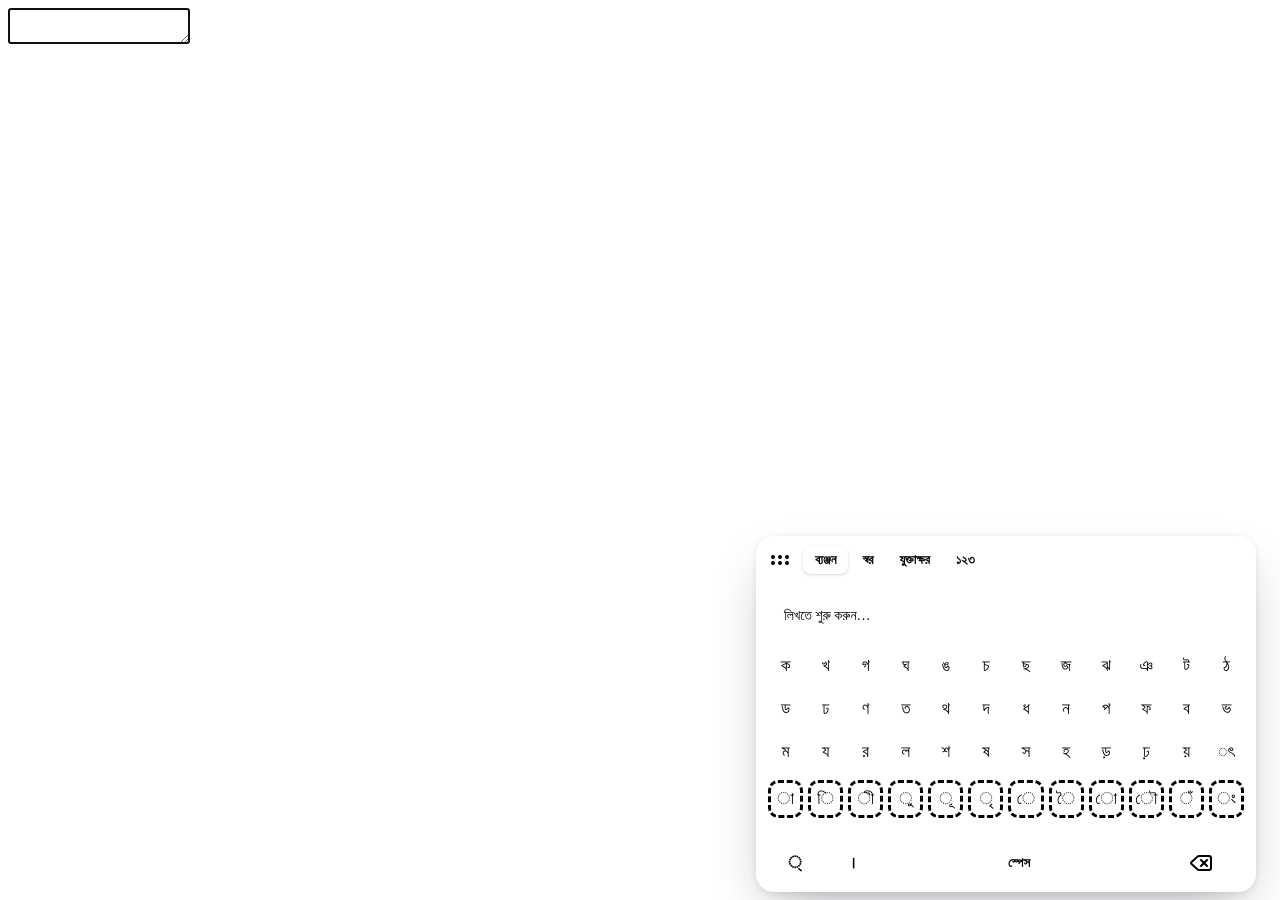
Test case: BanglaKeyboard › builds a conjunct from its own key
// A tablist, not three loose buttons — see the segmented control in the CSS.
Click the tab "যুক্তাক্ষর": (915, 560) [888,546,942,574]
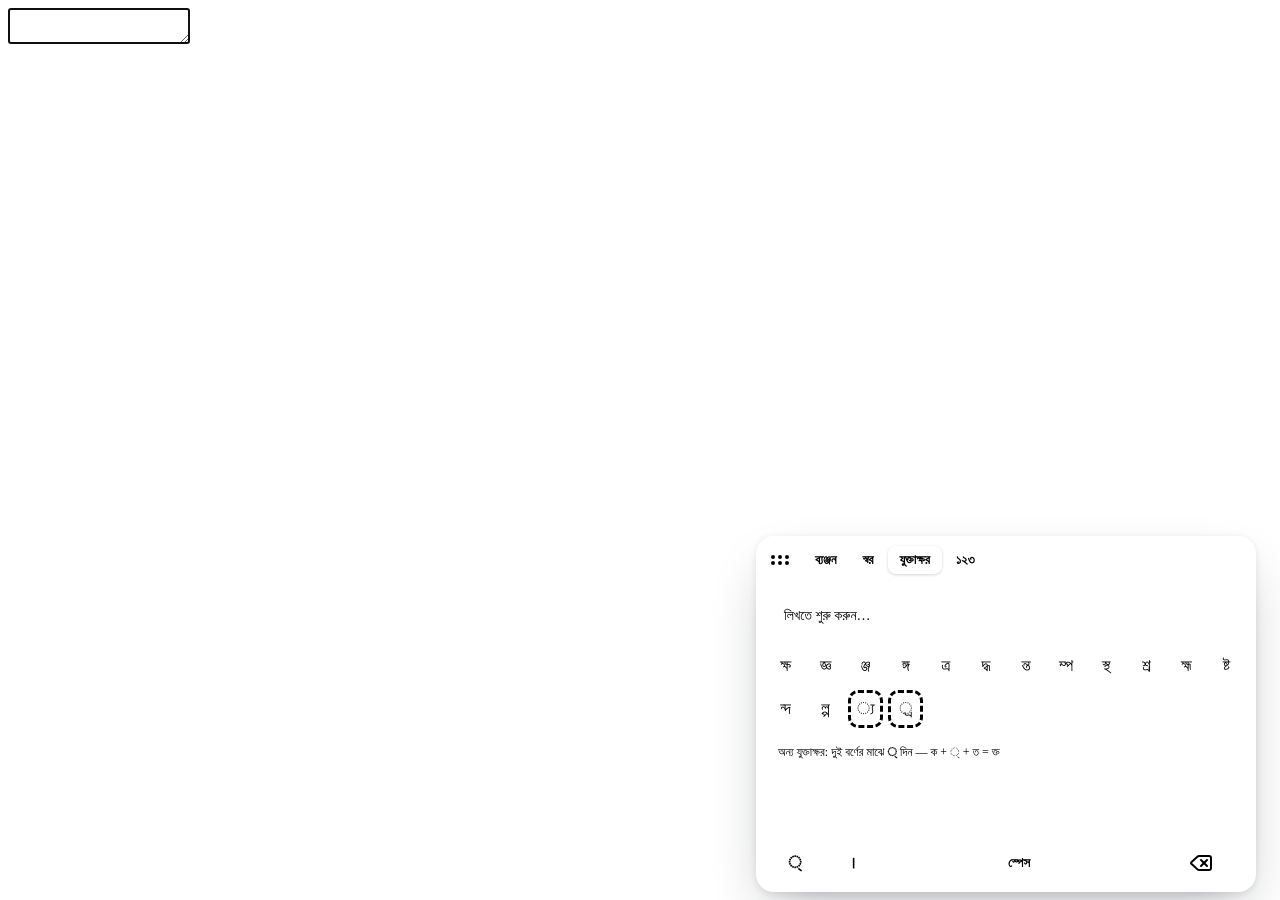
Click the button "ক্ষ": (786, 666) [768,646,803,684]
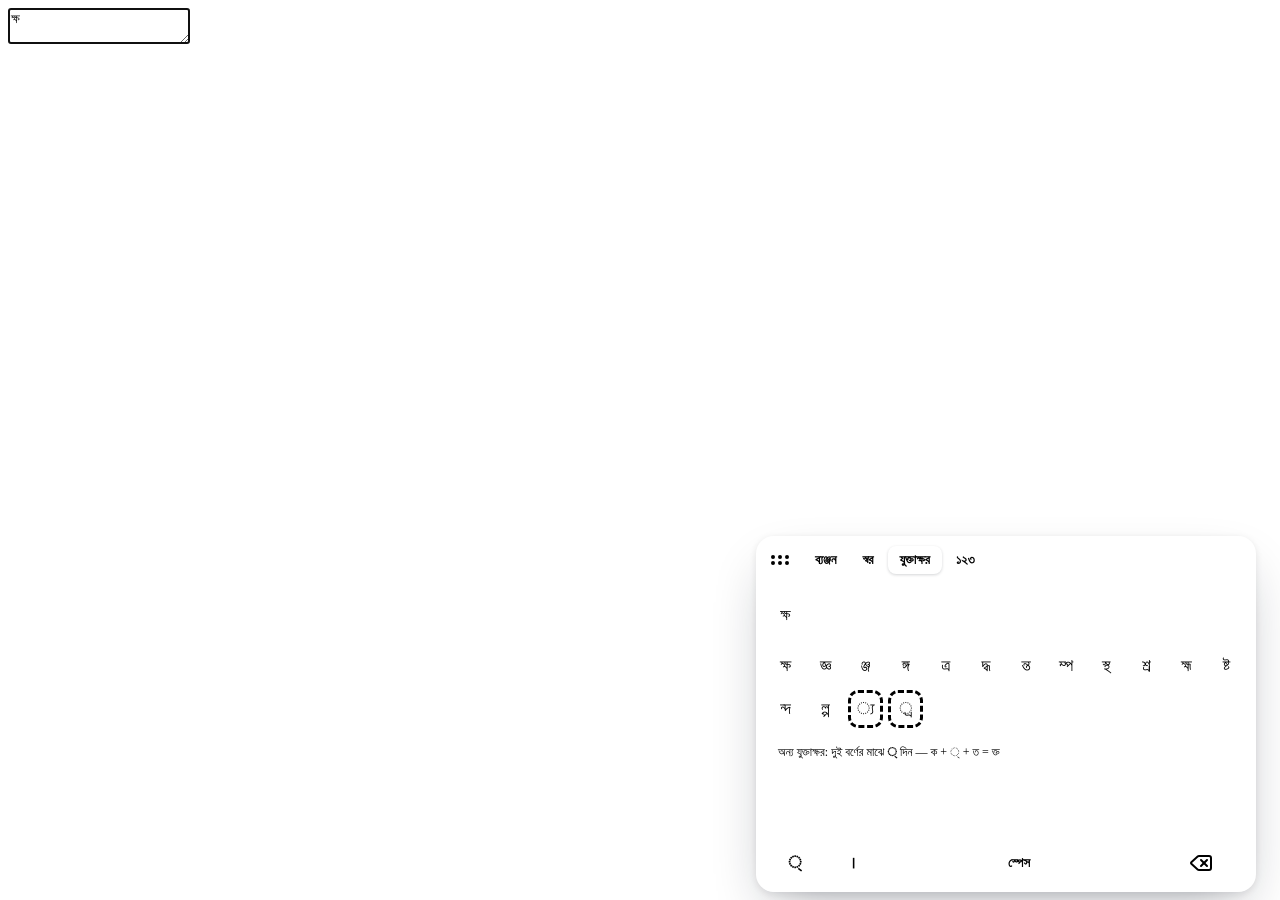
Expected: the text box named "advice" holds "ক্ষ", [8,8,190,44]
